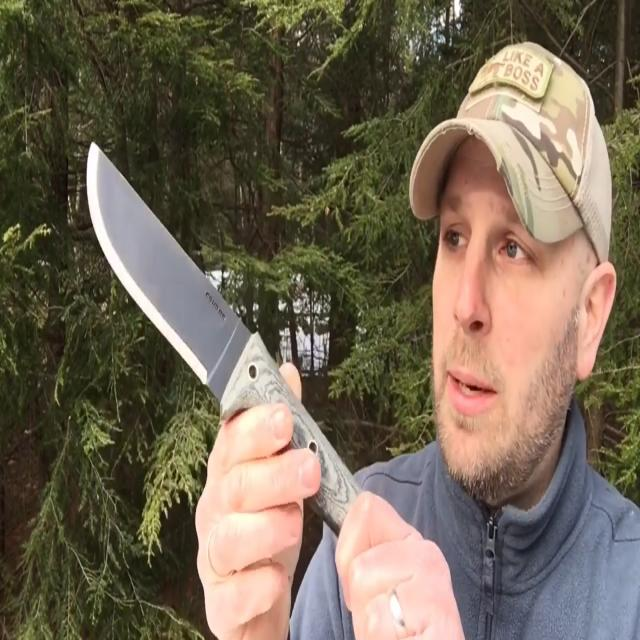knife: (85, 138, 363, 541)
